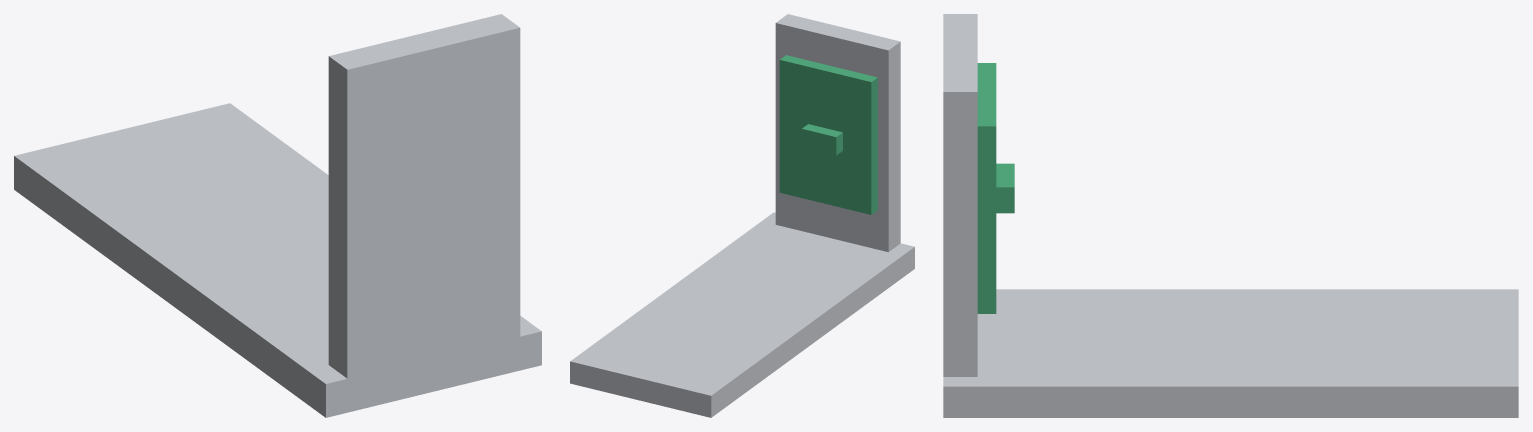
Rendered from sensor.glb.
3 views of the same model, side by side, from view 1: azimuth 30°, elevation 25°; view 2: azimuth 150°, elevation 25°; view 3: azimuth 270°, elevation 25° (orthographic). The views are drawn at different scales.
Visible parts, largest first — view 1: ball_on_beam; view 2: ball_on_beam; view 3: ball_on_beam.
Part boxes in pixels (x1,y1,x2,y2): ball_on_beam: [14, 14, 541, 417]; ball_on_beam: [570, 14, 914, 417]; ball_on_beam: [943, 14, 1518, 417].
Bounding box in the file's own units: 0.02 × 0.0303 × 0.05.
